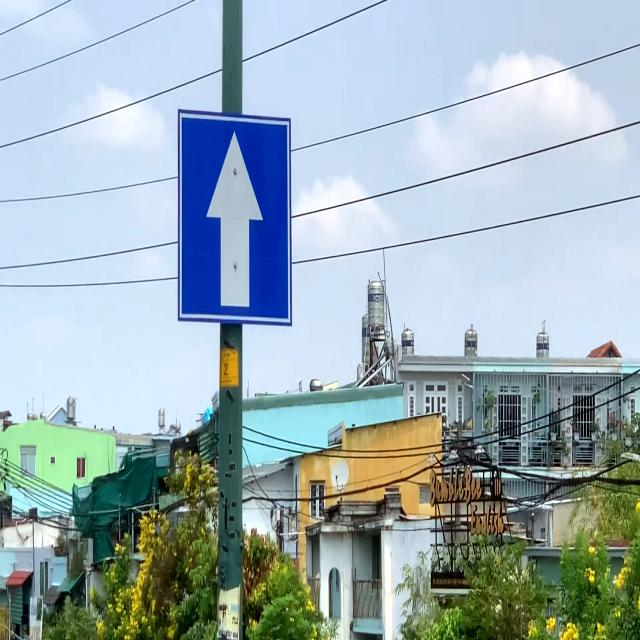R.407a: (176, 105, 294, 328)
